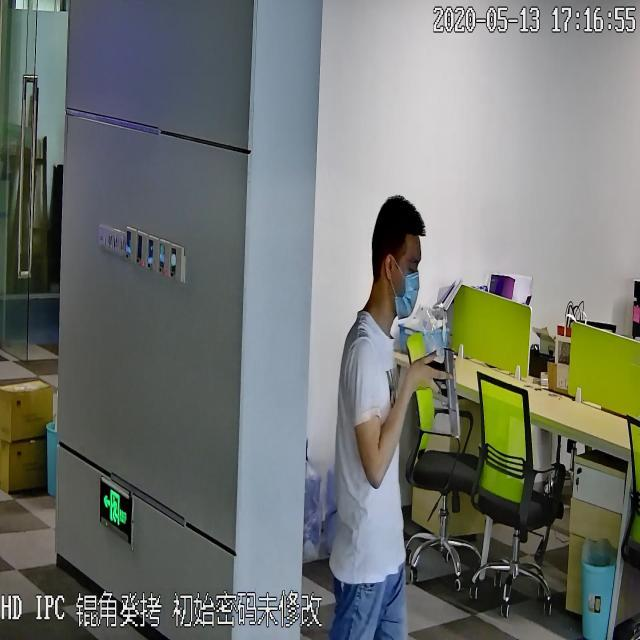gun: (419, 337, 463, 442)
